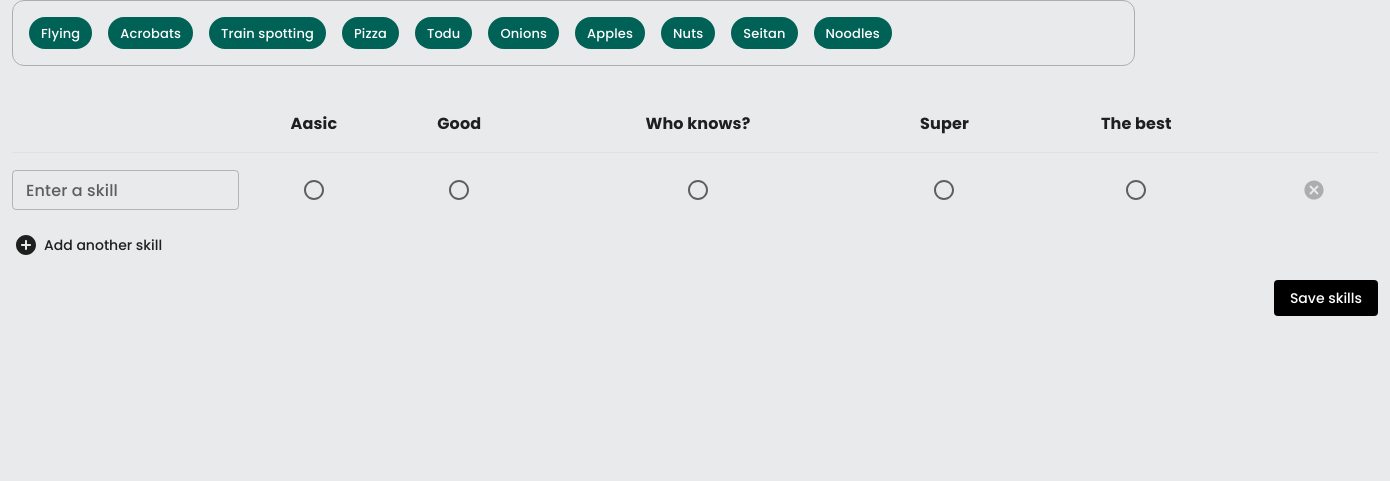
it: SkillsAddForm › Sucessful data › Can delete fields
Expected: the text "Aasic" is shown, [290,112,337,135]
Step 1. Click the button "Flying" → (61, 33), box [29,17,92,49]
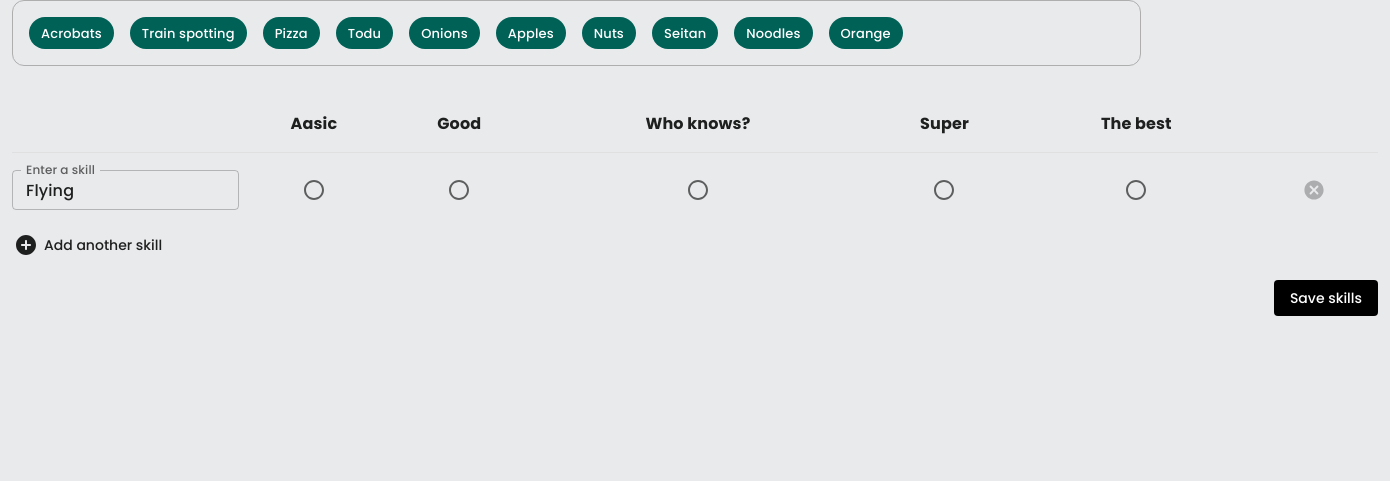
Step 2. Click the button "Acrobats" → (71, 33), box [29,17,114,49]
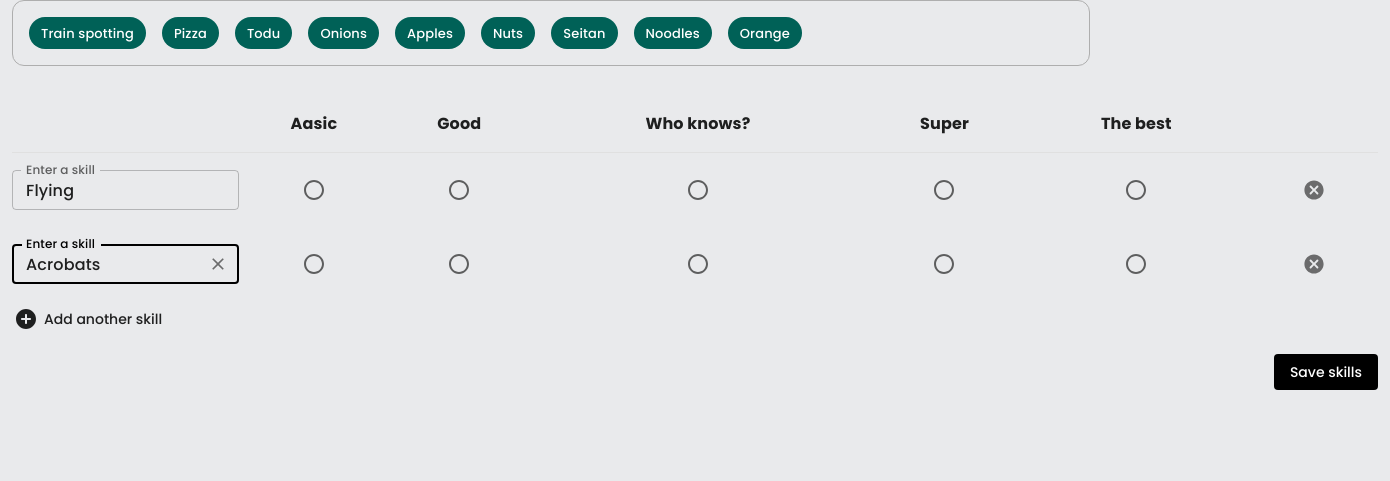
Step 3. Click the button "Train spotting" → (87, 33), box [29,17,146,49]
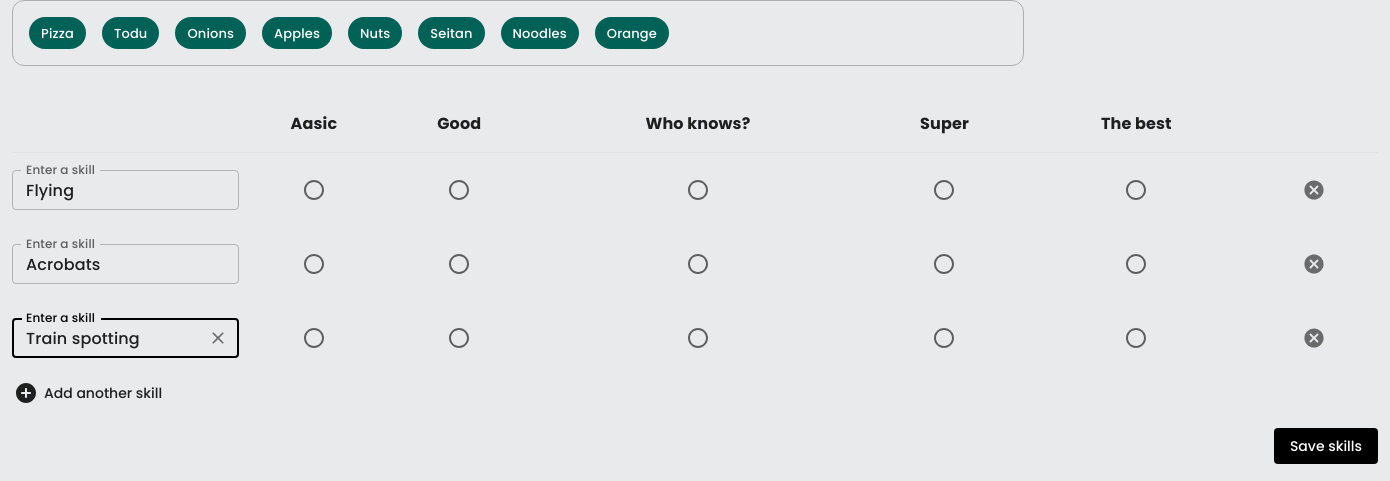
Expected: the dropdown with test id "input_skillname-0" holds "Flying", [18,176,200,204]
Expected: the dropdown with test id "input_skillname-2" holds "Train spotting", [18,324,200,352]
Step 4. Click the button with test id "delete-1" → (1314, 264), box [1294,244,1334,284]
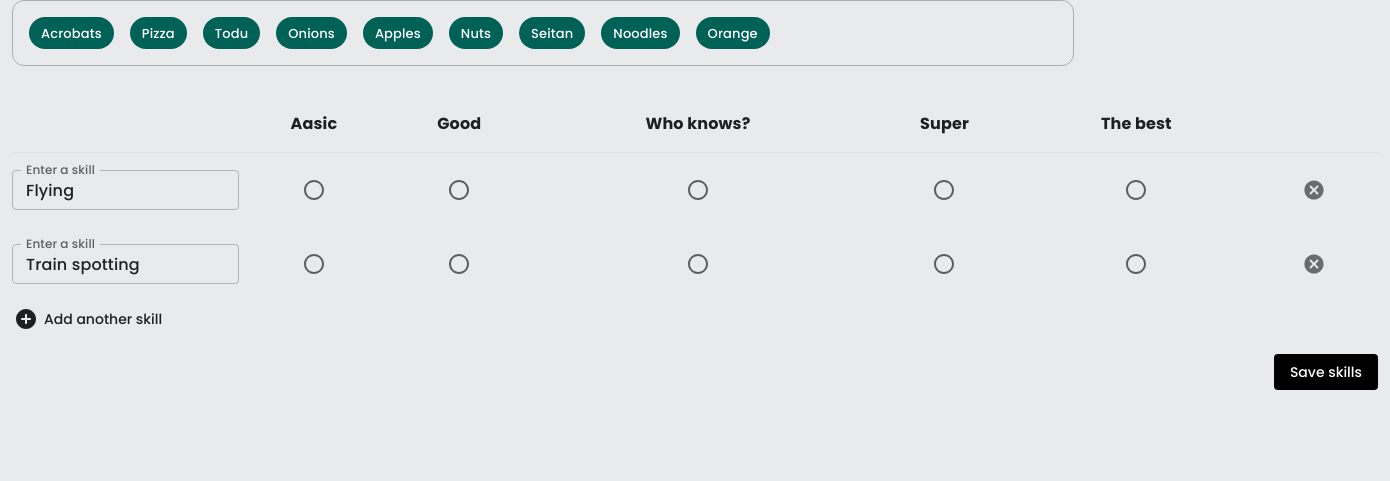
Expected: the dropdown with test id "input_skillname-0" holds "Flying", [18,176,200,204]
Expected: the dropdown with test id "input_skillname-2" is gone
Expected: the dropdown with test id "input_skillname-1" holds "Train spotting", [18,250,200,278]
